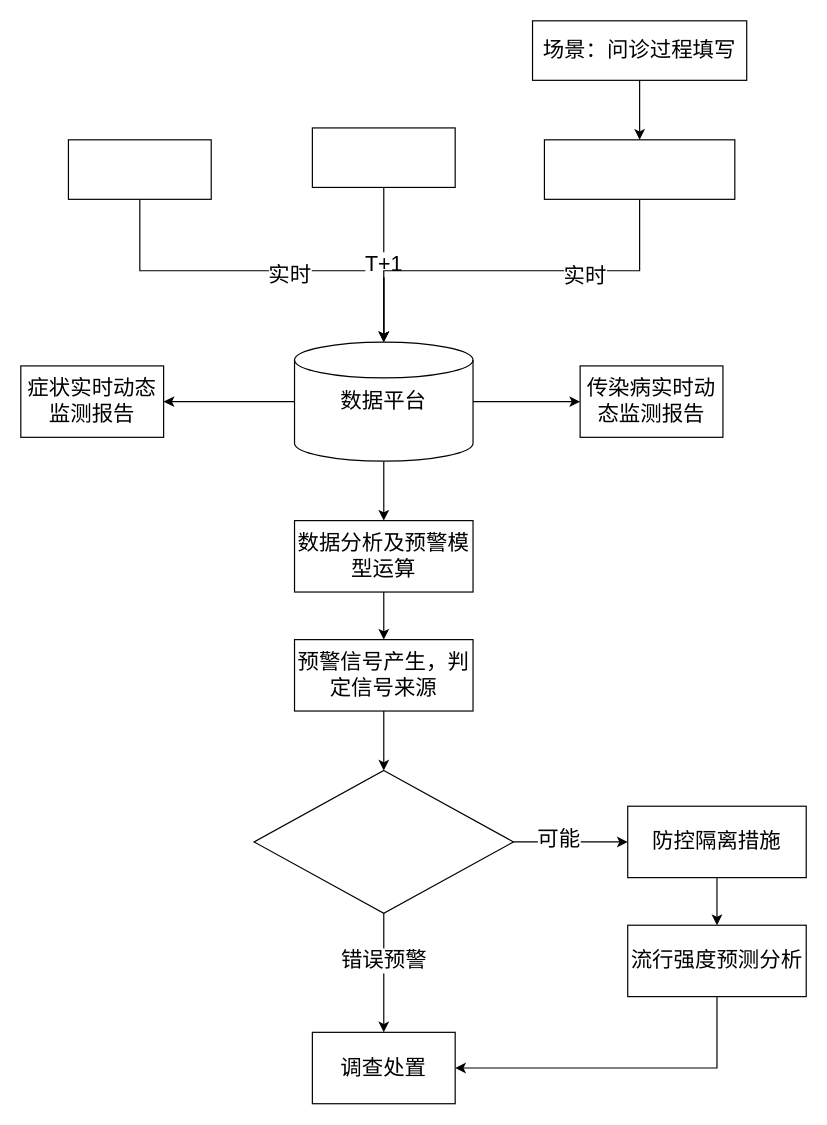
This 827x1125 diagram has some shape labels left out. The centre of each missing label's shape, as x and y in pixels:
"医院数据接口" goes at point (139, 169).
"症状数据 （症状问卷插件）" goes at point (639, 169).
"省平台电子病历资源" goes at point (383, 157).
"预警信号核实与分析" goes at point (383, 841).
